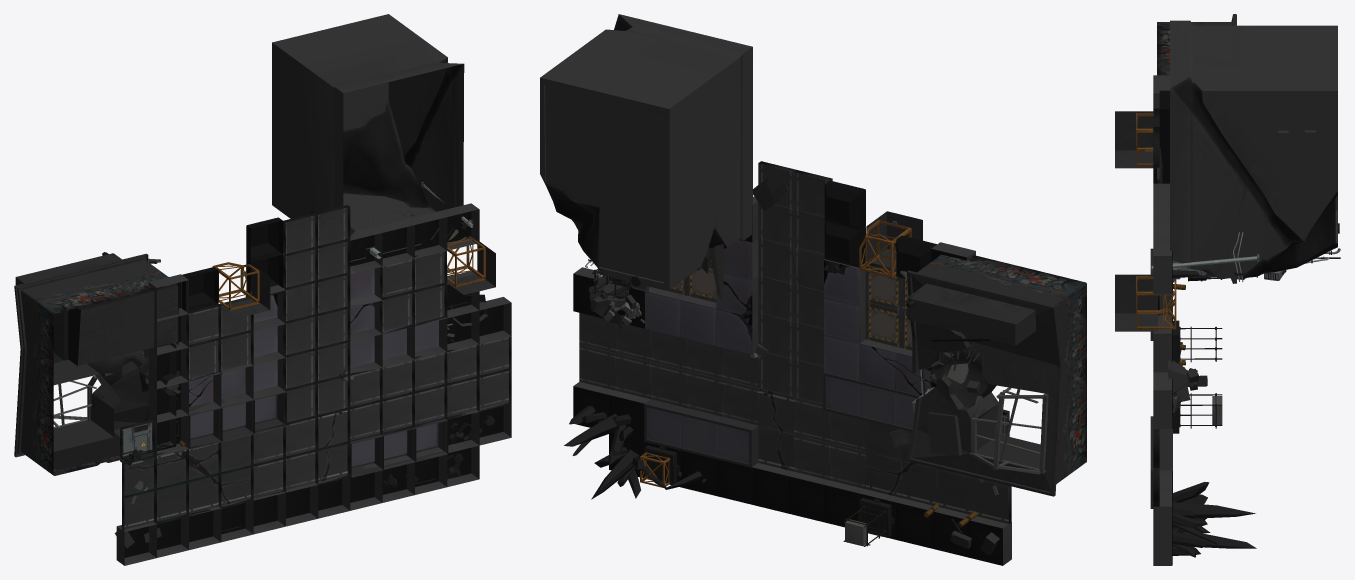
The picture shows the model from 3 angles, left to right: view 1: azimuth 30°, elevation 25°; view 2: azimuth 150°, elevation 25°; view 3: azimuth 270°, elevation 25°; orthographic projection. The views are drawn at different scales.
Parts seen in each view (by area): view 1: S_playground, S_outworld, pasted__S_outworld_05, pasted__S_outworld_06; view 2: S_outworld, S_playground, pasted__S_outworld_05, S_common_nopass_00, S_common_nopass_03, S_common_nopass_05; view 3: S_outworld, S_playground, pasted__S_outworld_06, pasted__S_outworld_05.
Part boxes in pixels (<box>): S_playground: <box>122,203,485,557</box>; S_outworld: <box>14,14,511,565</box>; pasted__S_outworld_05: <box>219,263,270,317</box>; pasted__S_outworld_06: <box>447,242,495,294</box>; S_outworld: <box>540,14,1086,565</box>; S_playground: <box>609,196,1011,556</box>; pasted__S_outworld_05: <box>866,211,922,269</box>; S_common_nopass_00: <box>869,307,897,343</box>; S_common_nopass_03: <box>869,269,897,305</box>; S_common_nopass_05: <box>690,267,716,299</box>; S_outworld: <box>1151,14,1340,557</box>; S_playground: <box>1136,75,1176,565</box>; pasted__S_outworld_06: <box>1115,274,1157,331</box>; pasted__S_outworld_05: <box>1115,111,1153,168</box>.
Size of the model in its own units: 0.143 by 0.1243 by 0.0528.
3 materials, 3 textured.
